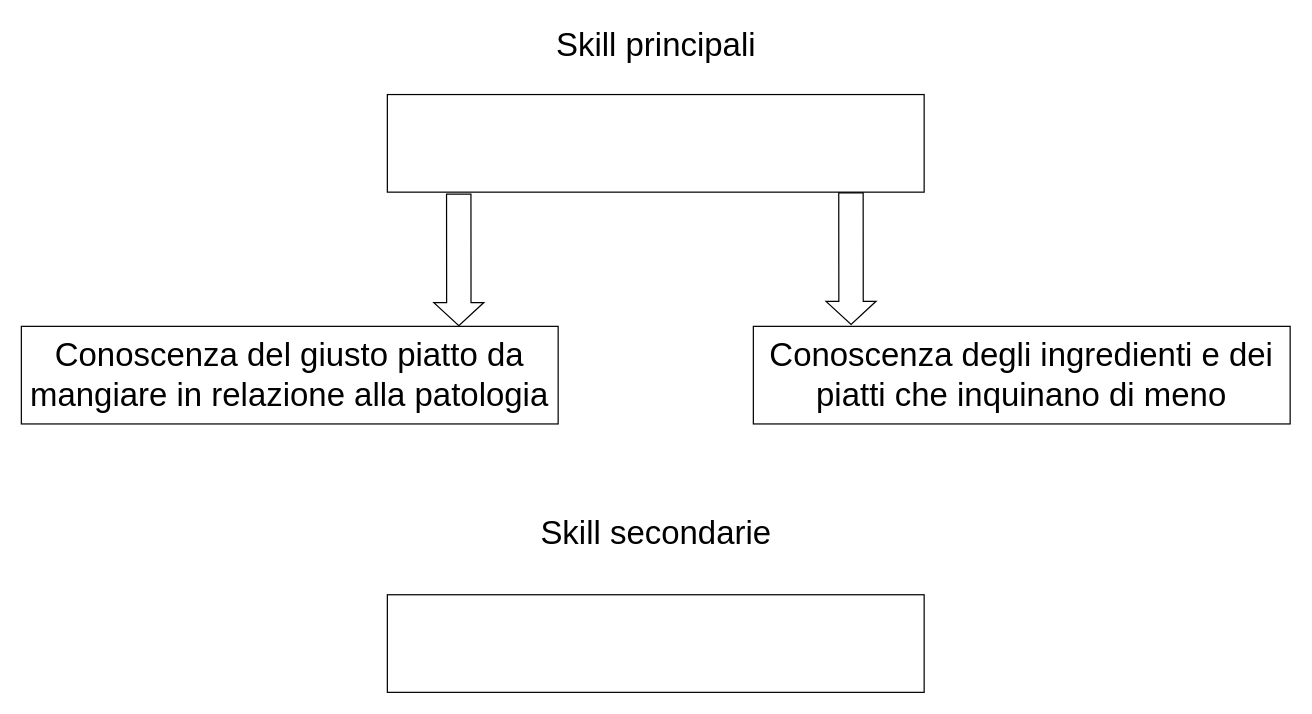
The diagram is 1312 pixels wide and 714 high, and some of its shapes have lost their labels. Here are the shapes that lost their labels. From the top down, the box of each, then its label:
(386, 93, 924, 192): Conoscenza dei piatti legati ad una buona alimentazione
(386, 594, 924, 692): Gestione del proprio denaro
